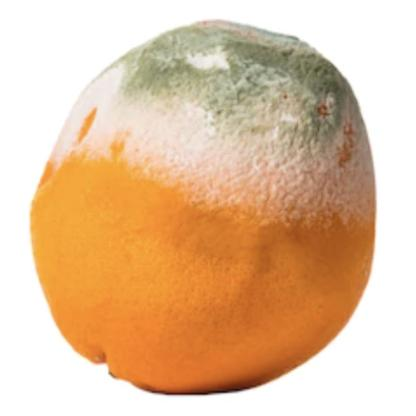rotten: (39, 21, 376, 395)
